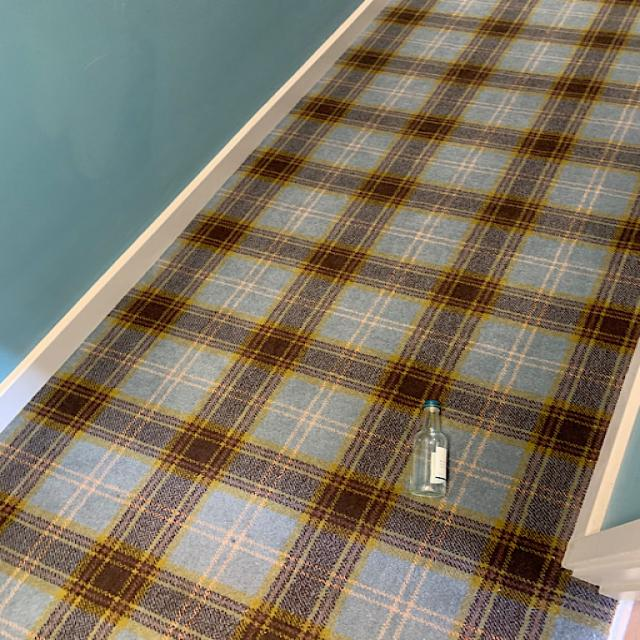litter: (409, 398, 450, 500)
